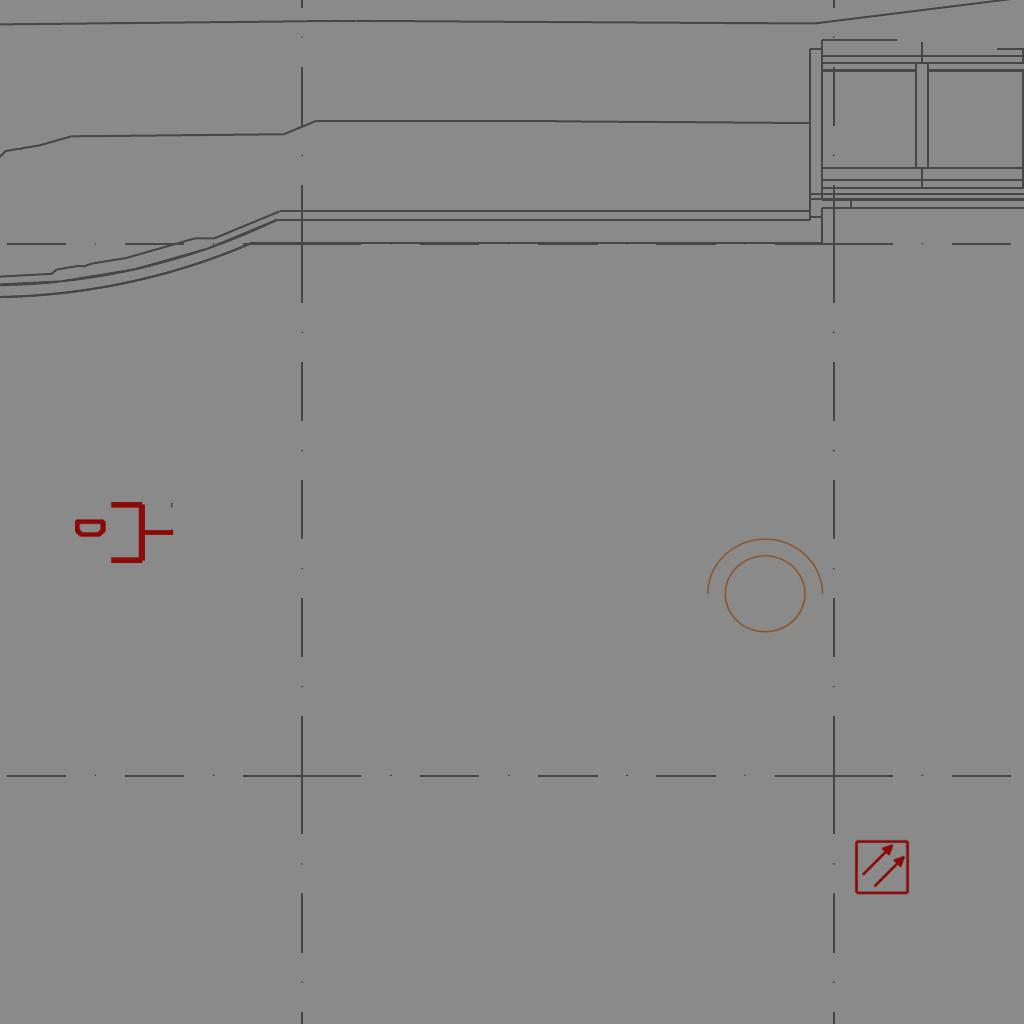Datenanschluss_einfach: (75, 498, 175, 567)
RMO_Rauchmelder_optischer: (854, 839, 910, 895)
Scheinwerfer_fuer_Alarmbeleuchtung: (696, 533, 828, 645)
